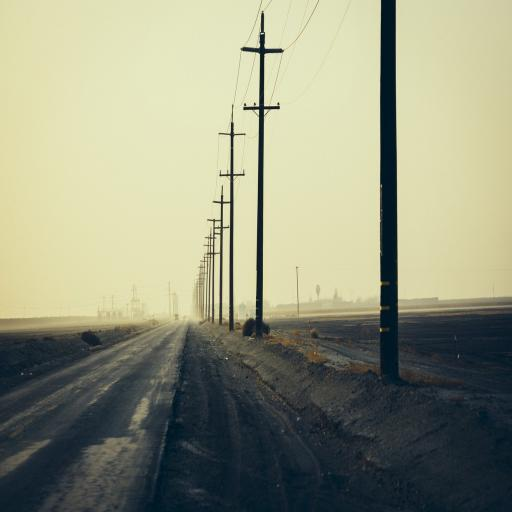Light-pole: (368, 0, 412, 394), (239, 10, 289, 346), (219, 109, 253, 350), (212, 191, 236, 339)
